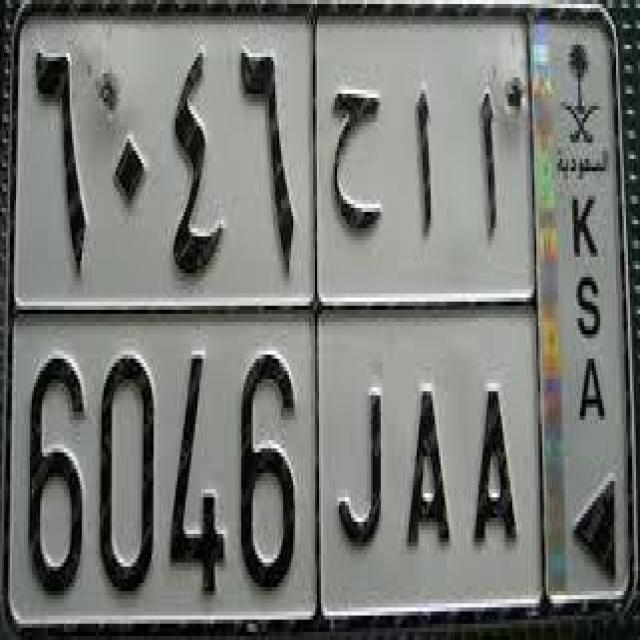license_plate: (3, 11, 634, 628)
